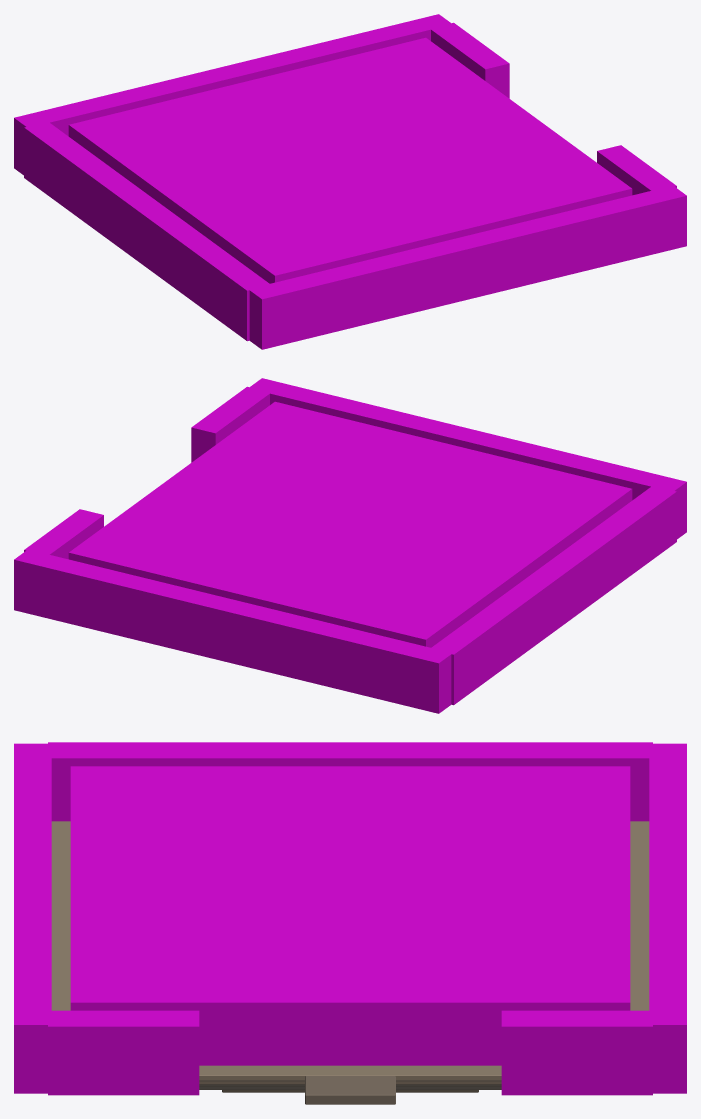
Rendered from ENV_Tank_Stepped_A.glb.
3 renders of one model, top to bottom at view 1: azimuth 30°, elevation 25°; view 2: azimuth 150°, elevation 25°; view 3: azimuth 270°, elevation 25°, orthographic. The views are drawn at different scales.
Visible parts, largest first — view 1: COL_Basin, COL_Rim_S, COL_Rim_W, COL_Rim_N, COL_Rim_E_1, COL_Rim_E_-1; view 2: COL_Basin, COL_Rim_N, COL_Rim_W, COL_Rim_S, COL_Rim_E_-1, COL_Rim_E_1; view 3: COL_Basin, COL_Rim_W, ENV_Tank_Stepped_A_Mesh, COL_Rim_E_1, COL_Rim_E_-1, COL_Rim_N, COL_Rim_S.
Part boxes in pixels (box(x1,y1,x2,y2)): COL_Basin: box(68, 37, 632, 283); COL_Rim_S: box(249, 185, 686, 349); COL_Rim_W: box(24, 122, 270, 341); COL_Rim_N: box(14, 14, 450, 175); COL_Rim_E_1: box(430, 22, 509, 98); COL_Rim_E_-1: box(597, 145, 676, 195); COL_Basin: box(68, 401, 632, 647); COL_Rim_N: box(14, 550, 452, 713); COL_Rim_W: box(430, 486, 676, 705); COL_Rim_S: box(250, 378, 686, 539); COL_Rim_E_-1: box(191, 386, 270, 462); COL_Rim_E_1: box(24, 509, 103, 559); COL_Basin: box(70, 766, 630, 1065); COL_Rim_W: box(48, 742, 652, 821); ENV_Tank_Stepped_A_Mesh: box(51, 821, 649, 1104); COL_Rim_E_1: box(501, 1010, 652, 1095); COL_Rim_E_-1: box(48, 1010, 199, 1095); COL_Rim_N: box(649, 743, 686, 1093); COL_Rim_S: box(14, 743, 51, 1093).
Bounding box in the file's own units: 9.05 × 2.25 × 8.9.
